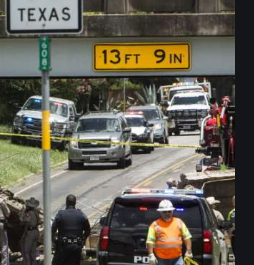1: (99, 47, 109, 66)
3: (107, 47, 121, 67)
9: (150, 45, 167, 66)
overheadsign: (93, 42, 193, 71)
